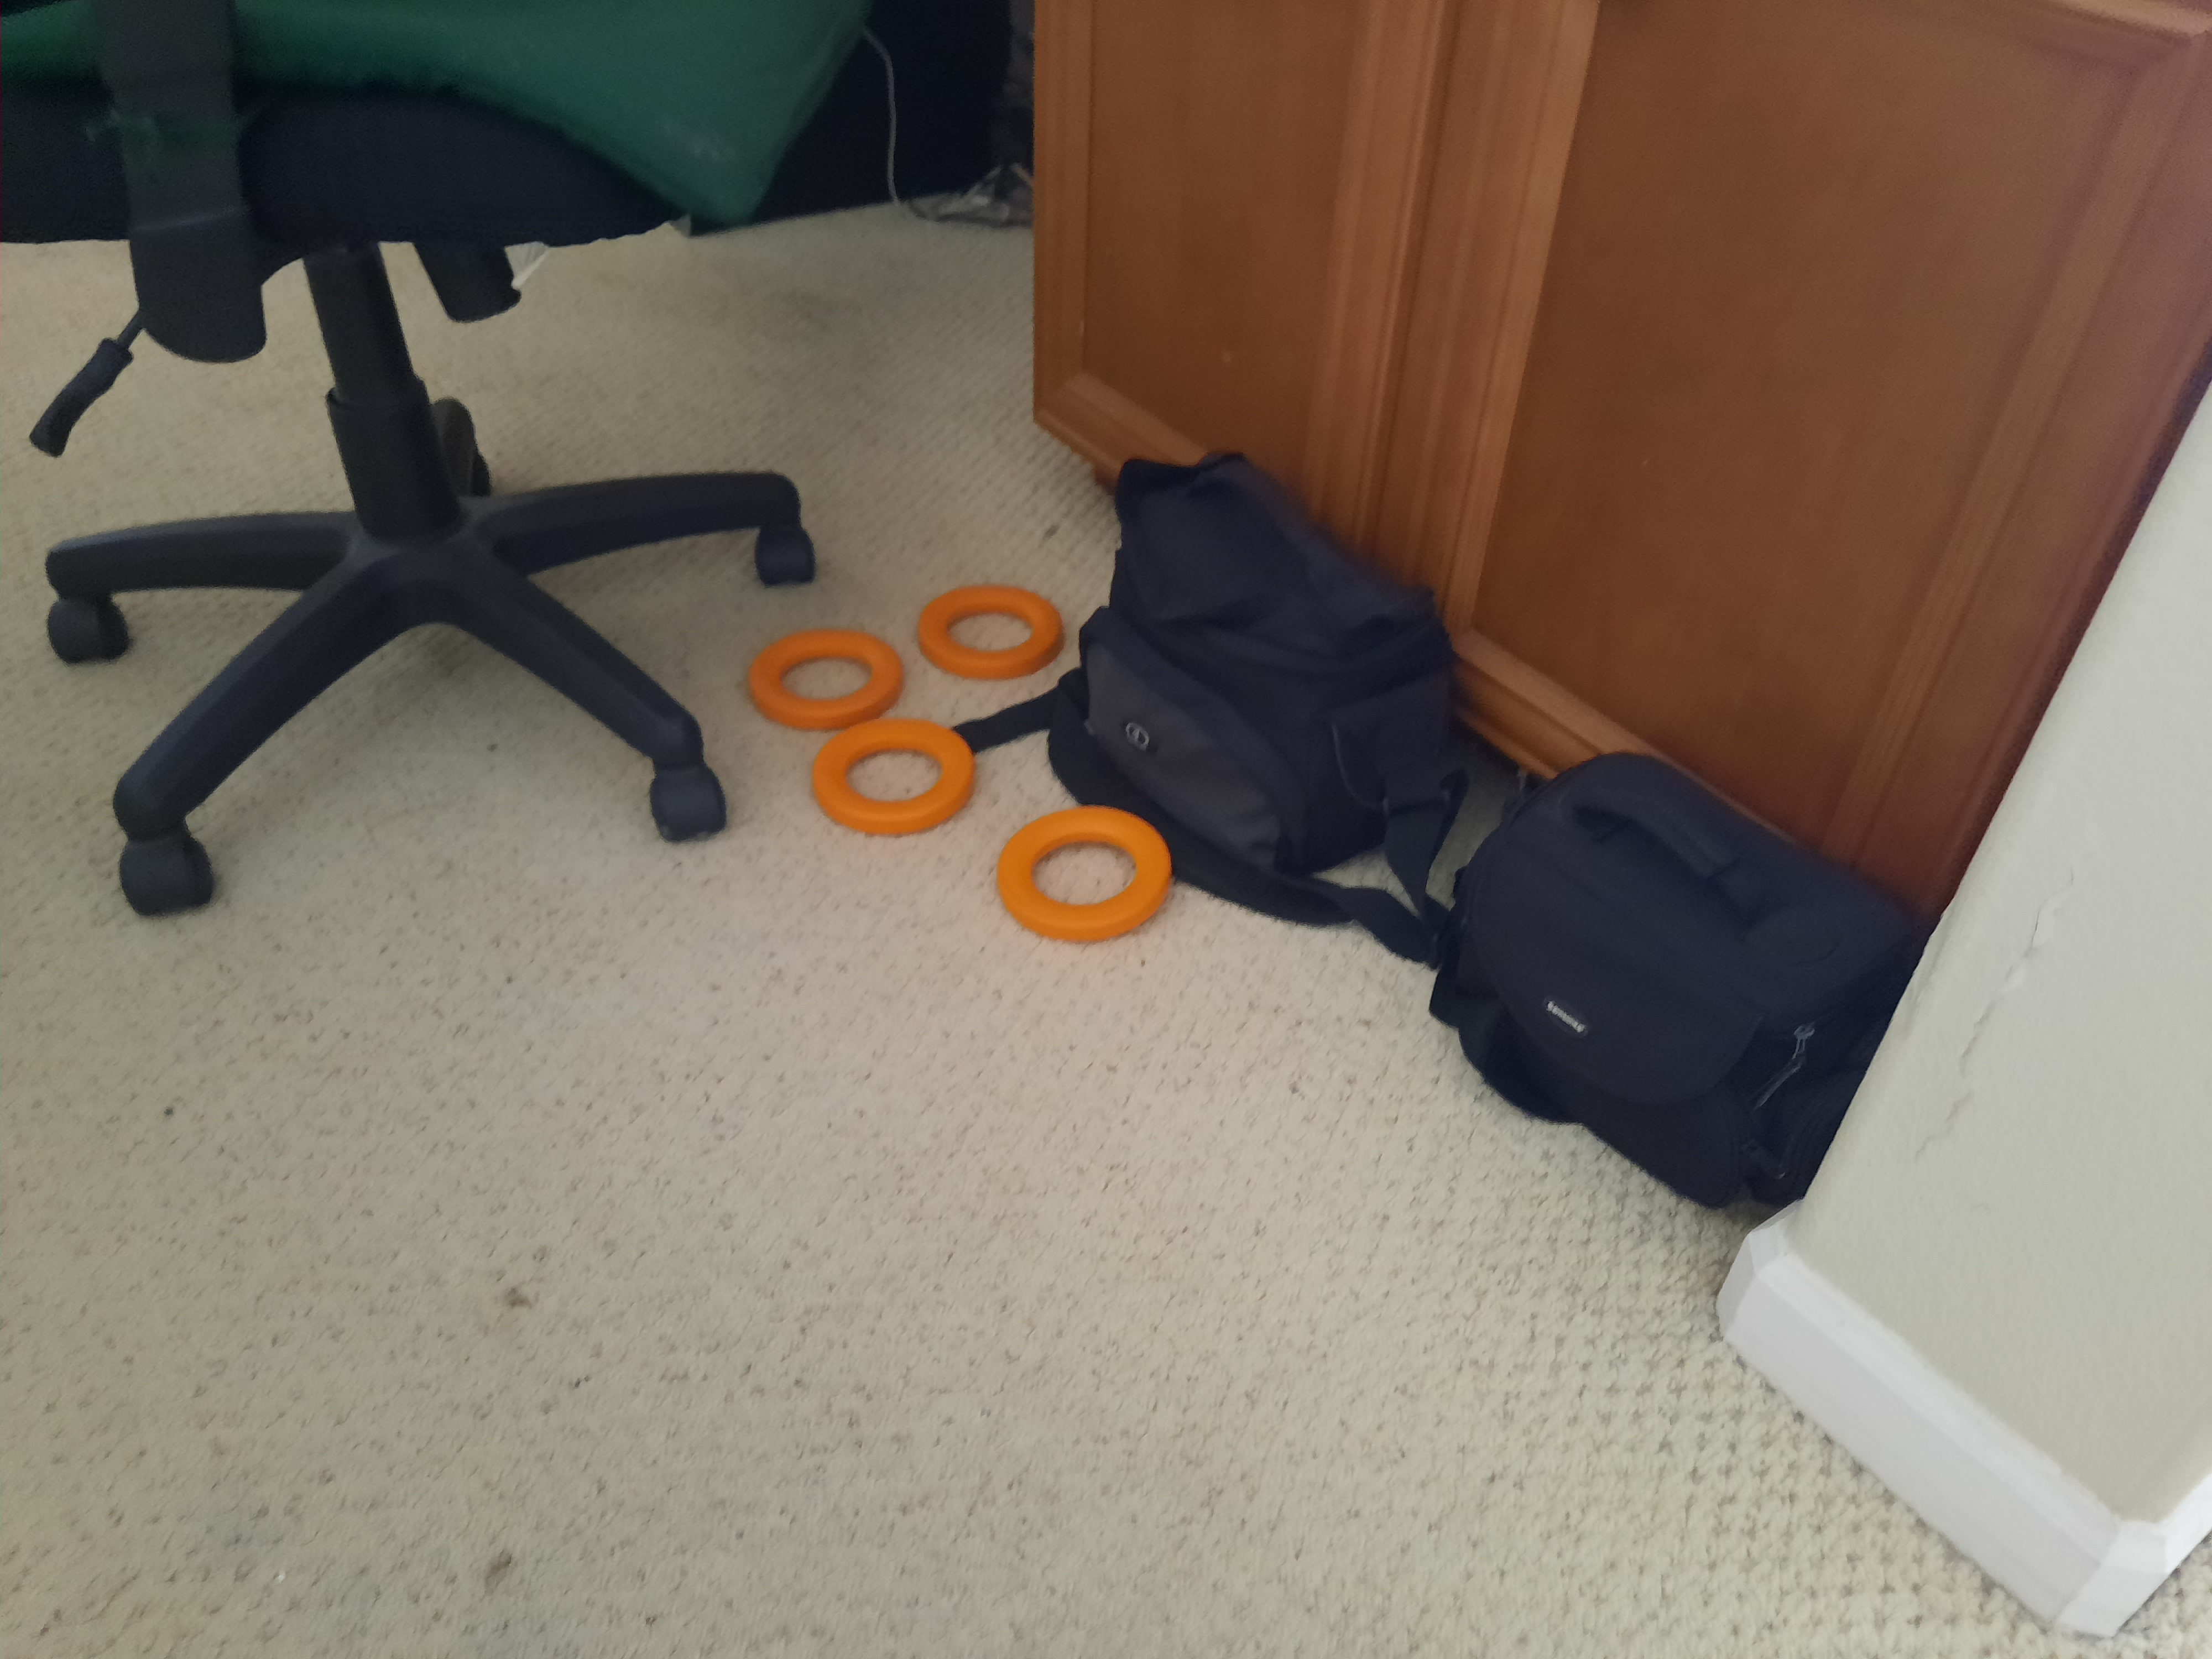OneStack: (1000, 800, 1167, 938), (820, 721, 968, 830), (742, 629, 902, 720), (918, 586, 1066, 674)
